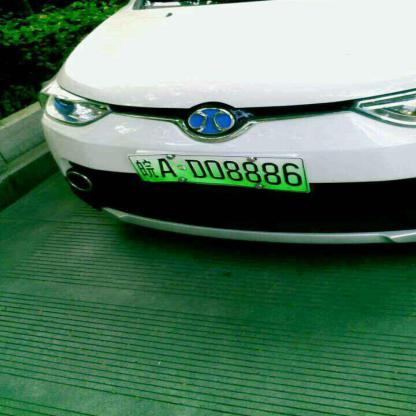lp: (128, 156, 307, 194)
